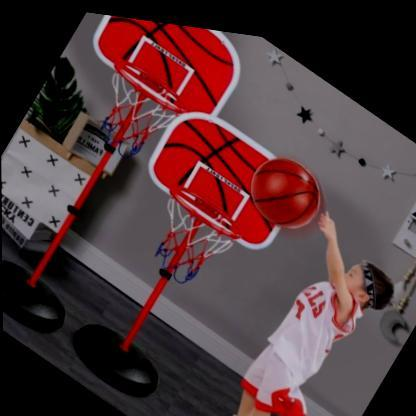basketball: (238, 133, 331, 235)
rim: (132, 168, 246, 296), (78, 44, 191, 170)
